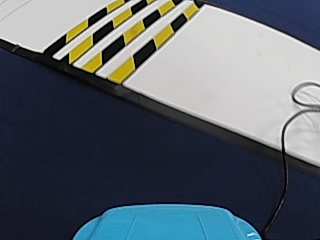bump: (30, 10, 162, 80)
